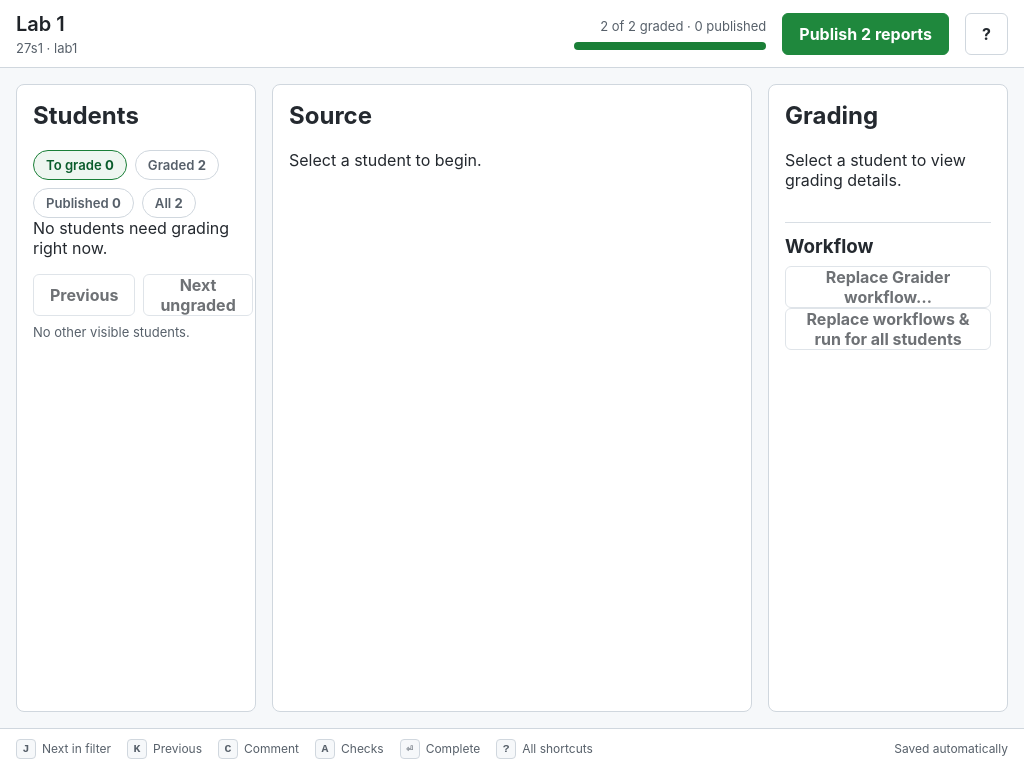
GradingWorkspacePage publish review › toggling a checkbox reads its checked value before updating selection, and does not crash
This screenshot has width=1024, height=768.
Click the button "Publish 2 reports": (866, 34) 782,12 -> 949,54
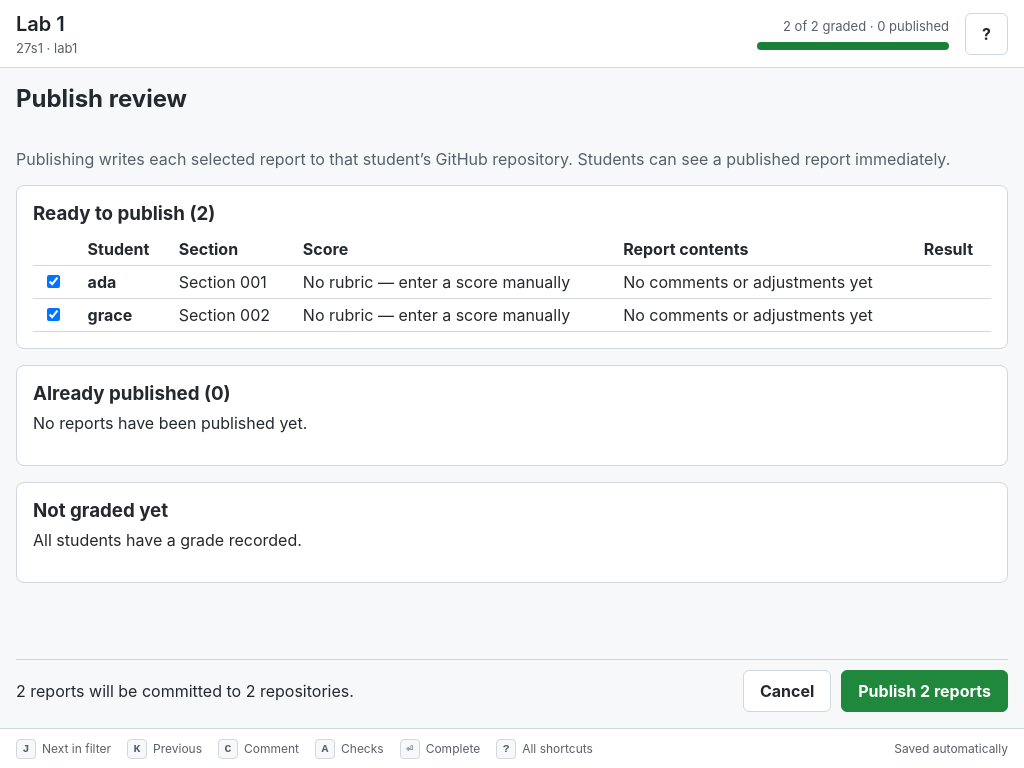
Check: the heading "Publish review" is shown, box 16,84 -> 187,113
Check: the checkbox named "Select grace to publish" is checked
Click the checkbox named "Select grace to publish": (54, 314) 47,308 -> 60,321
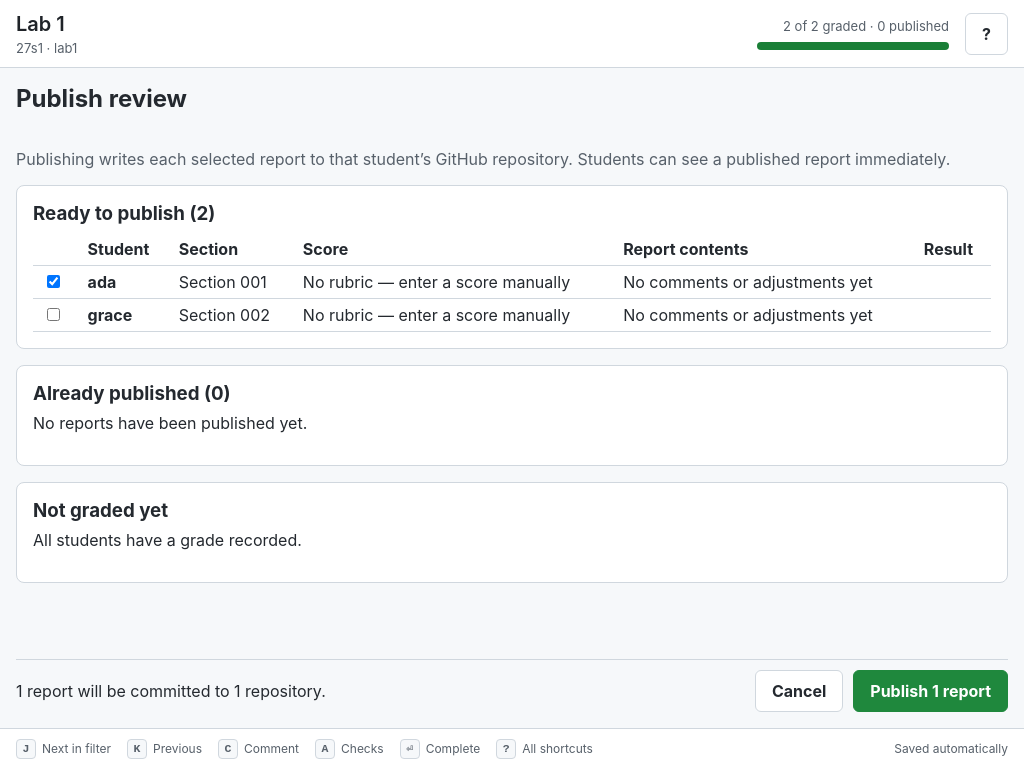
Check: the checkbox named "Select grace to publish" is not checked
Check: the text "1 report will be committed to 1 repository." is shown, box 16,681 -> 326,701
Click the checkbox named "Select grace to publish": (54, 314) 47,308 -> 60,321
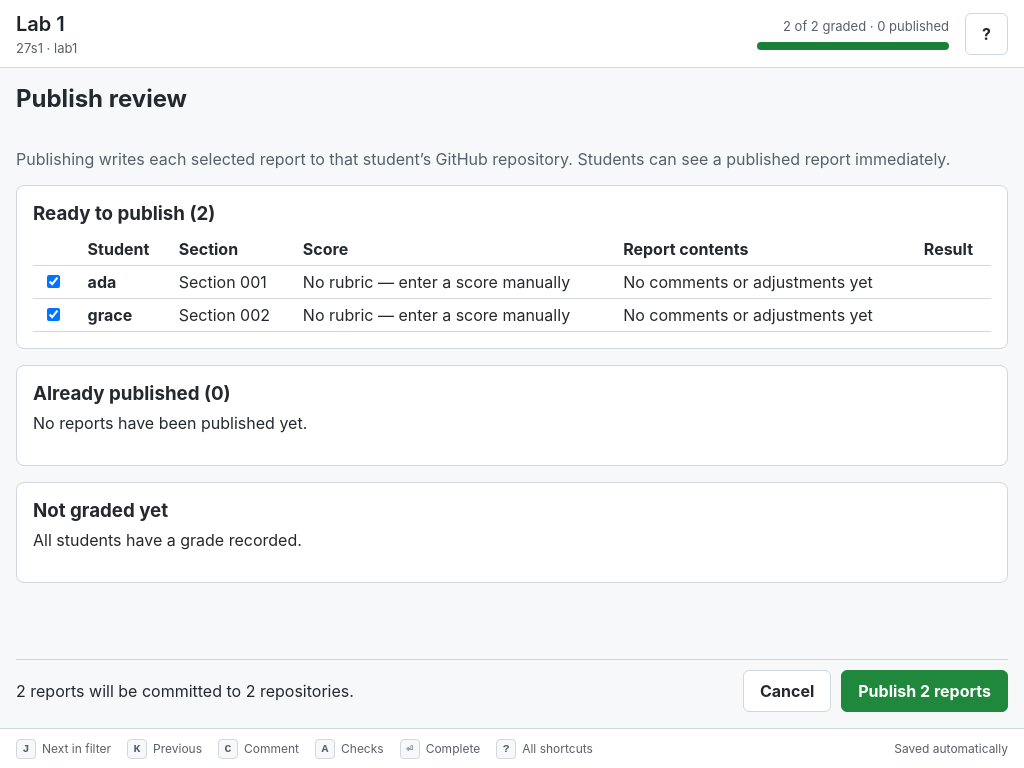
Check: the checkbox named "Select grace to publish" is checked, box 47,308 -> 60,321
Check: the text "2 reports will be committed to 2 repositories." is shown, box 16,681 -> 354,701
